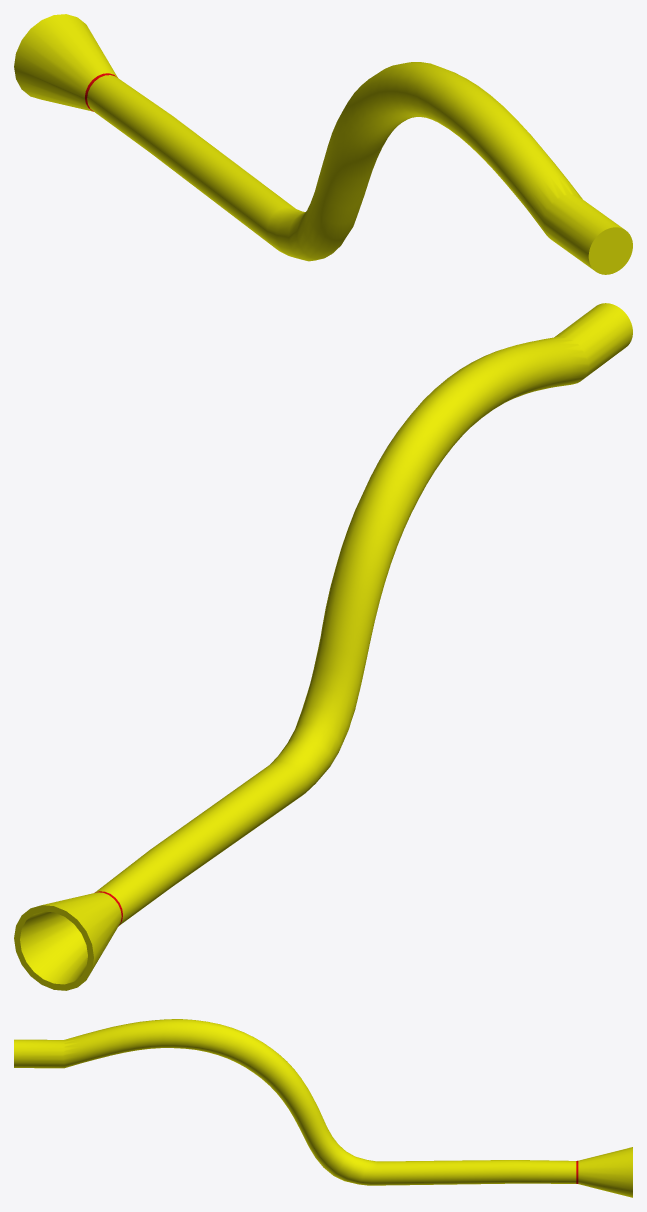
File: pipe.fbx
The picture shows the model from 3 angles, top to bottom: view 1: azimuth 30°, elevation 25°; view 2: azimuth 150°, elevation 25°; view 3: azimuth 270°, elevation 25°; orthographic projection. The views are drawn at different scales.
Visible parts, largest first — view 1: pCylinder6; view 2: pCylinder6; view 3: pCylinder6.
Boxes of the visible parts, bbox=[...] form: pCylinder6: bbox=[14, 14, 632, 274]; pCylinder6: bbox=[14, 303, 632, 990]; pCylinder6: bbox=[14, 1019, 632, 1197].
Bounding box in the file's own units: 7.29 × 27.39 × 87.86.
